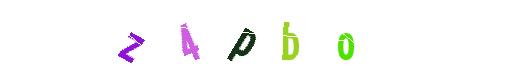4: (149, 0, 229, 80)
B: (212, 0, 292, 80)
O: (273, 0, 353, 80)
P: (202, 0, 282, 80)
Z: (91, 0, 171, 80)
